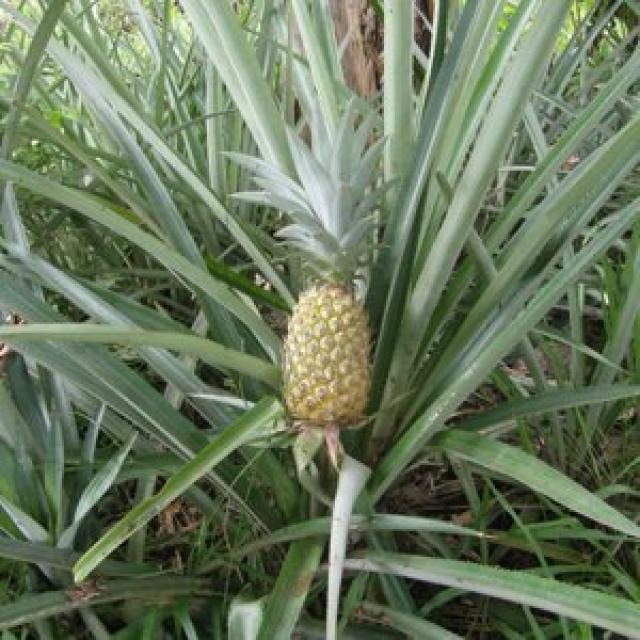pineapple: (269, 228, 382, 432)
